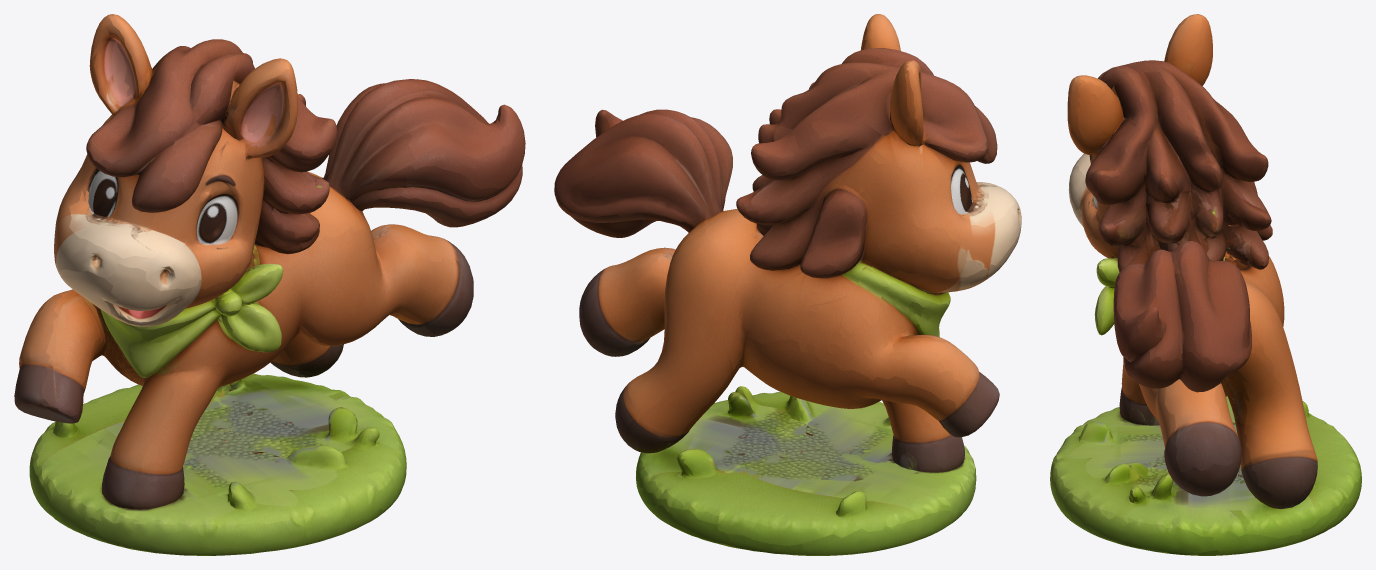
3 renders of one model, left to right at view 1: azimuth 30°, elevation 25°; view 2: azimuth 150°, elevation 25°; view 3: azimuth 270°, elevation 25°, orthographic. The views are drawn at different scales.
Parts seen in each view (by area): view 1: world; view 2: world; view 3: world.
Part boxes in pixels (x1,y1,x2,y2): world: [14, 14, 525, 555]; world: [554, 14, 1021, 555]; world: [1050, 14, 1361, 555].
Bounding box in the file's own units: 0.9989 × 0.9991 × 0.6567.
1 material, 1 textured.
